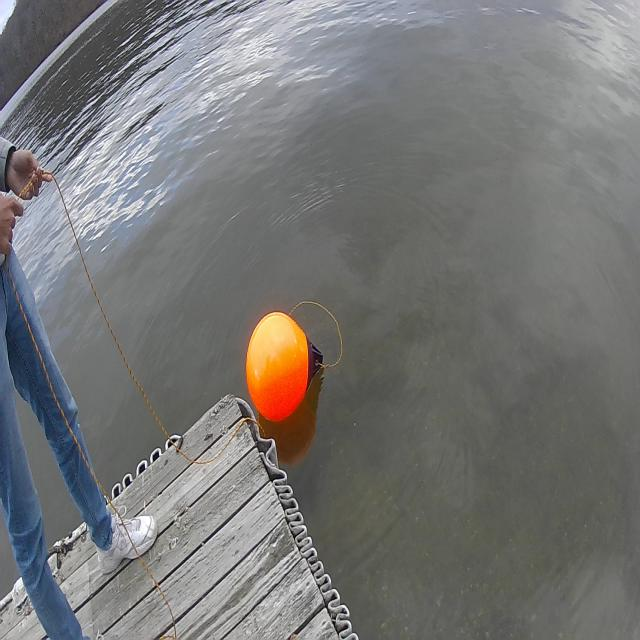Buoy: (241, 298, 327, 439)
